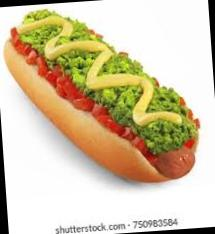Completos: (3, 0, 204, 197)
